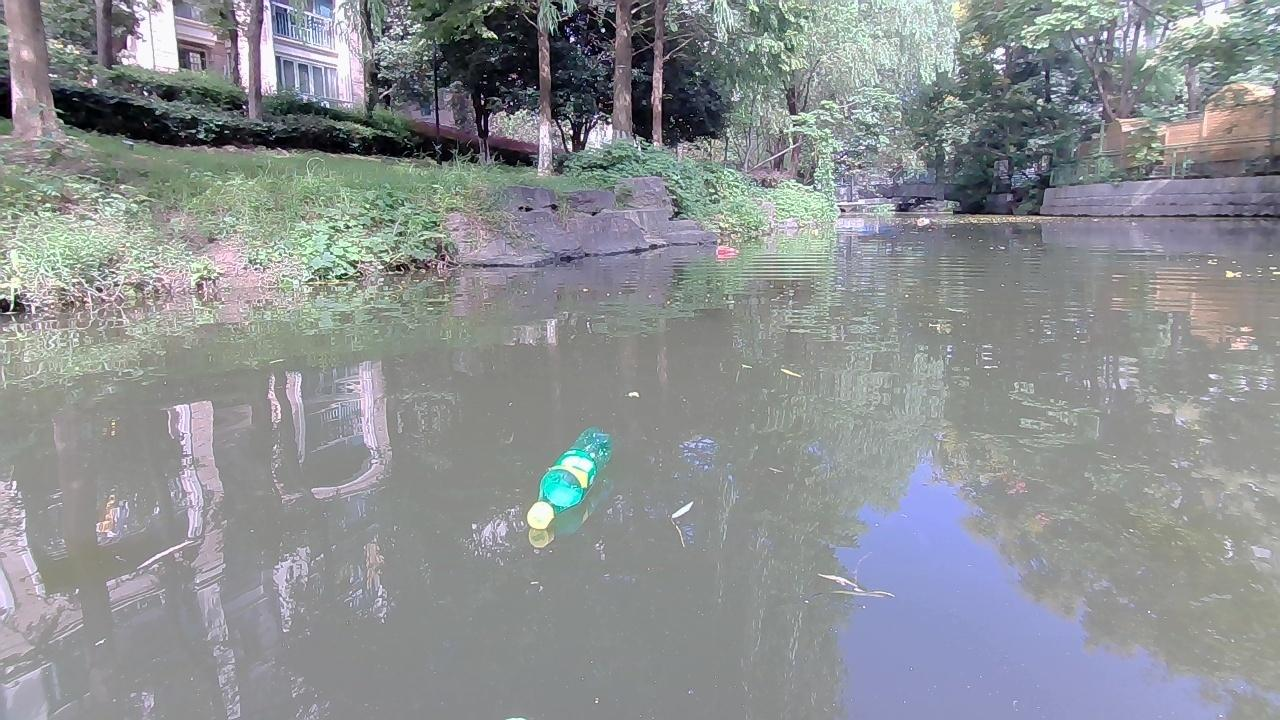bottle: (518, 425, 613, 527), (713, 245, 743, 254)
